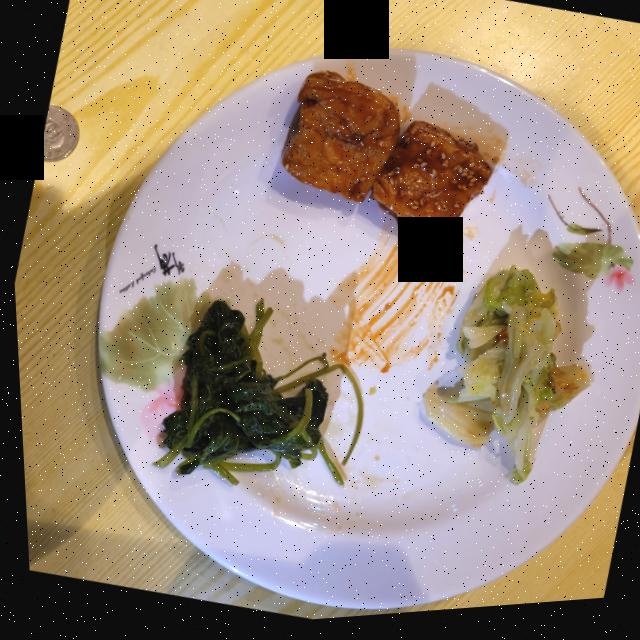cabbage: (418, 272, 585, 491)
coin: (37, 105, 77, 161)
creamy tofu: (279, 74, 489, 244)
sweet potato leaves: (149, 302, 357, 488)
